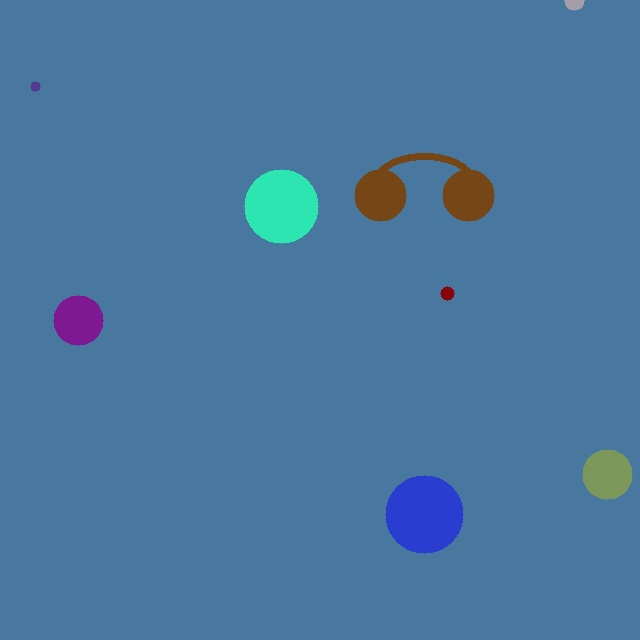over_ear: (350, 139, 498, 225)
